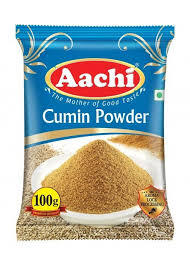VEG: (154, 89, 165, 101)
